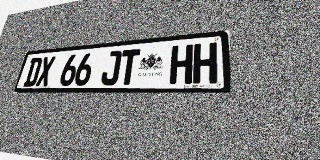6: (73, 53, 95, 86), (59, 54, 80, 86)
D: (23, 57, 43, 87)
H: (193, 42, 217, 84), (169, 44, 193, 84)
J: (100, 50, 122, 85)
T: (118, 49, 140, 85)
X: (35, 56, 56, 86)
